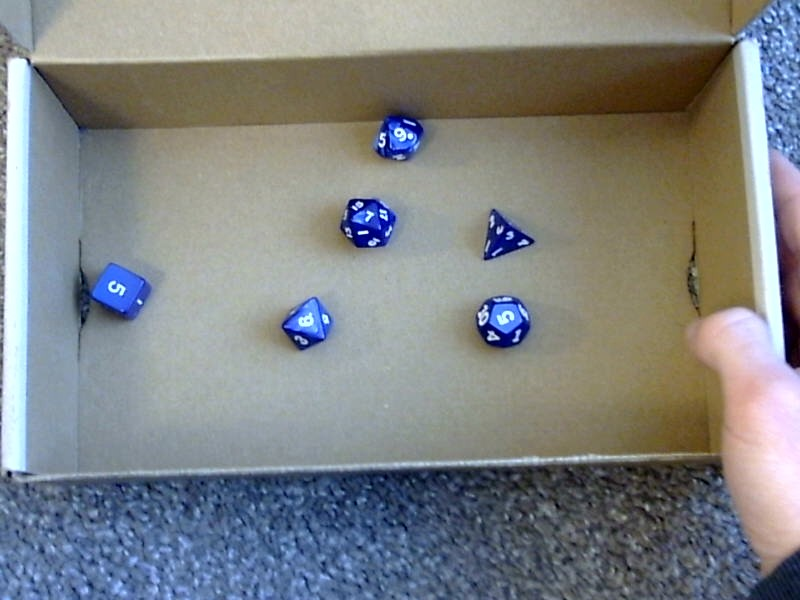d10 9: (364, 109, 429, 161)
d12 5: (466, 286, 533, 352)
d20 7: (336, 191, 400, 251)
d4 3: (473, 202, 537, 264)
d6 5: (83, 253, 157, 325)
d8 6: (275, 292, 336, 352)
